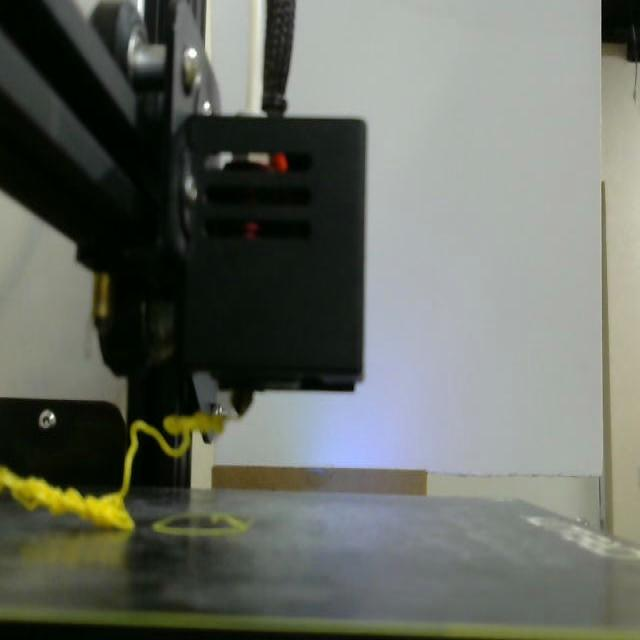spaghetti: (0, 412, 225, 529)
